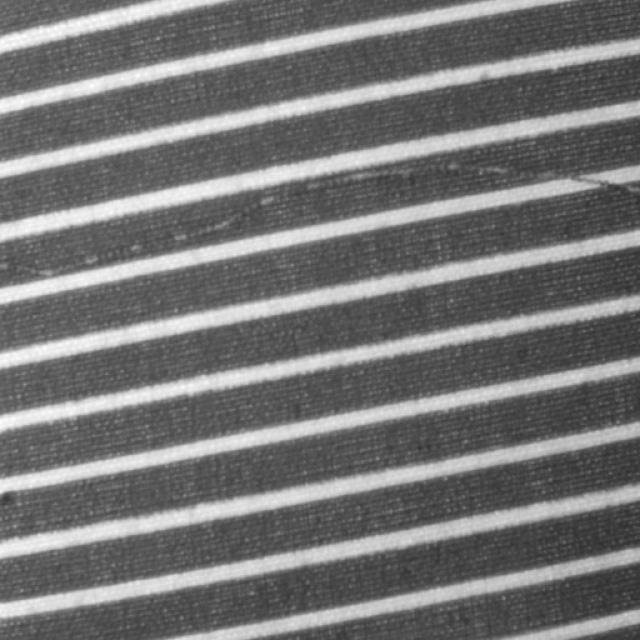Foreign-Body-Defect: (0, 158, 639, 284)
